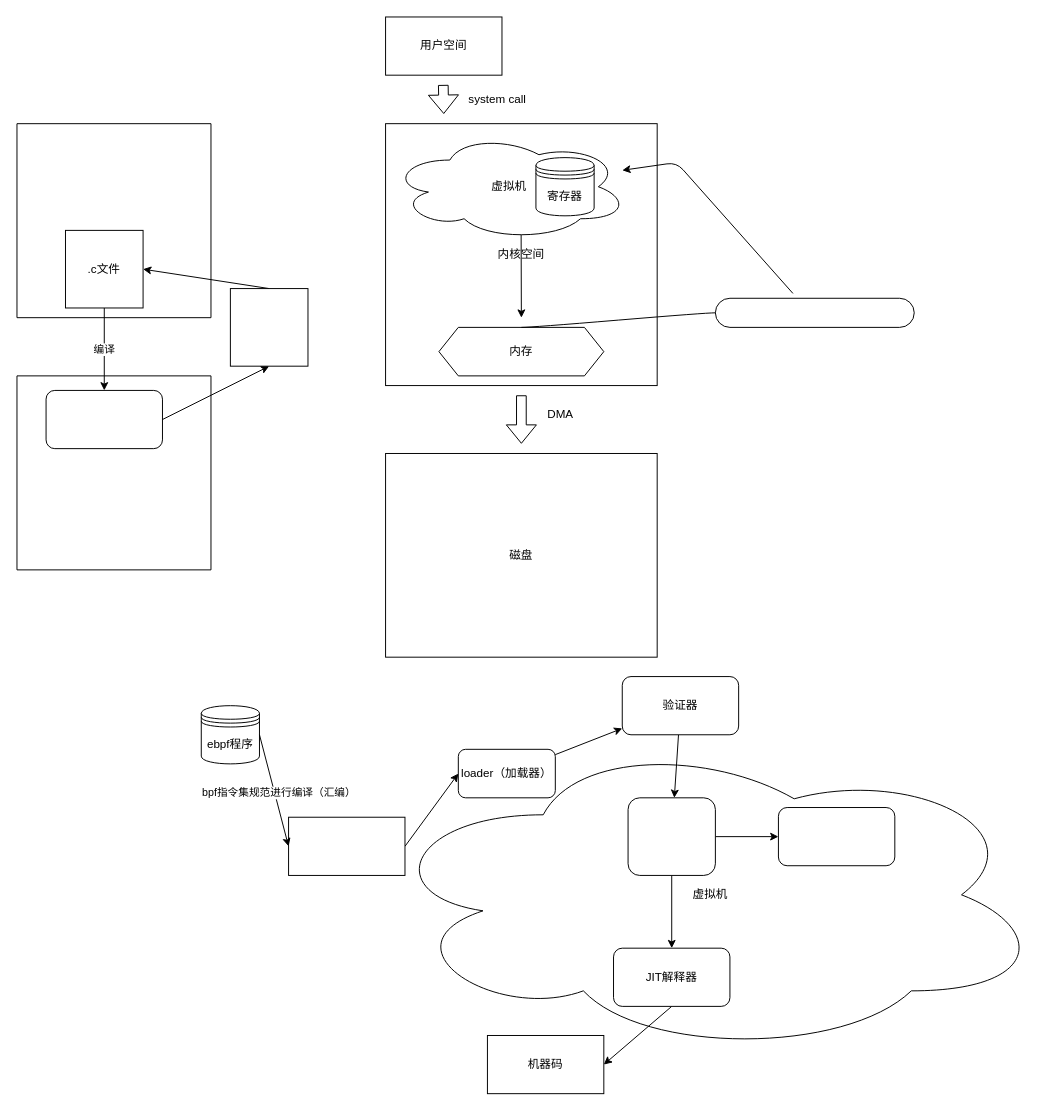
Some shapes in this 1062 by 1111 pixel diagram are drawn without their labels. Here are the shapes that lost their labels. From the top down, the centre of each, then its label:
At (268,327): "莫名其妙的头文件？".
At (814,312): "指令编码（指令集）".
At (103,419): "bpf.c文件".
At (346,845): "ebpf字节码".
At (671,836): "执行引擎".
At (836,836): "内核解释器".
